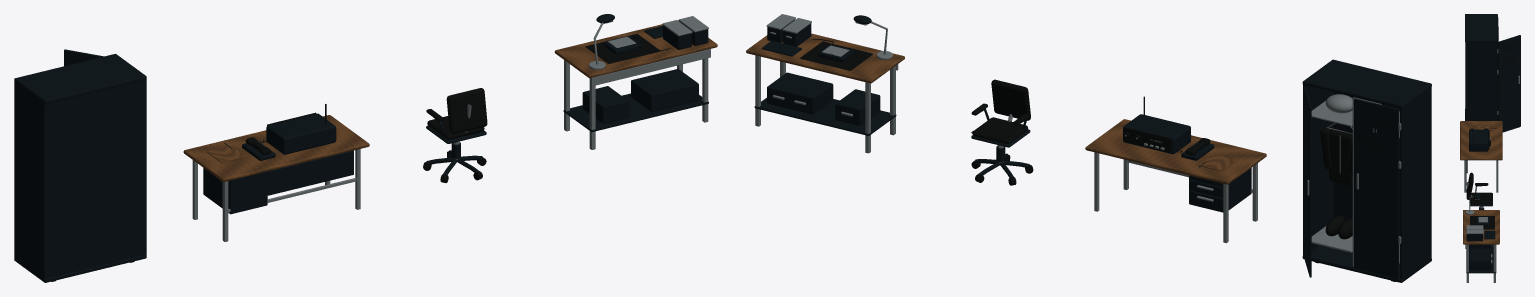
The model's file is training_interiors.glb.
The picture shows the model from 3 angles, left to right: view 1: azimuth 30°, elevation 25°; view 2: azimuth 150°, elevation 25°; view 3: azimuth 270°, elevation 25°; orthographic projection. The views are drawn at different scales.
Visible parts, largest first — view 1: TrainingLockerSurface, EvidenceBenchSurface, RadioDeskSurface, BureauChairSurface; view 2: TrainingLockerSurface, EvidenceBenchSurface, RadioDeskSurface, BureauChairSurface; view 3: TrainingLockerSurface, EvidenceBenchSurface, RadioDeskSurface, BureauChairSurface.
Part boxes in pixels (bbox=[...]): TrainingLockerSurface: bbox=[14, 49, 146, 282]; EvidenceBenchSurface: bbox=[554, 14, 717, 149]; RadioDeskSurface: bbox=[183, 104, 369, 241]; BureauChairSurface: bbox=[423, 88, 487, 182]; TrainingLockerSurface: bbox=[1302, 59, 1431, 282]; EvidenceBenchSurface: bbox=[746, 14, 904, 153]; RadioDeskSurface: bbox=[1085, 96, 1266, 243]; BureauChairSurface: bbox=[971, 79, 1033, 185]; TrainingLockerSurface: bbox=[1465, 14, 1520, 132]; EvidenceBenchSurface: bbox=[1463, 193, 1499, 282]; RadioDeskSurface: bbox=[1460, 121, 1502, 192]; BureauChairSurface: bbox=[1466, 172, 1492, 209].
Size of the model in its own units: 8.22 by 2.17 by 1.22.
Materials: 4 (4 with a texture image).
